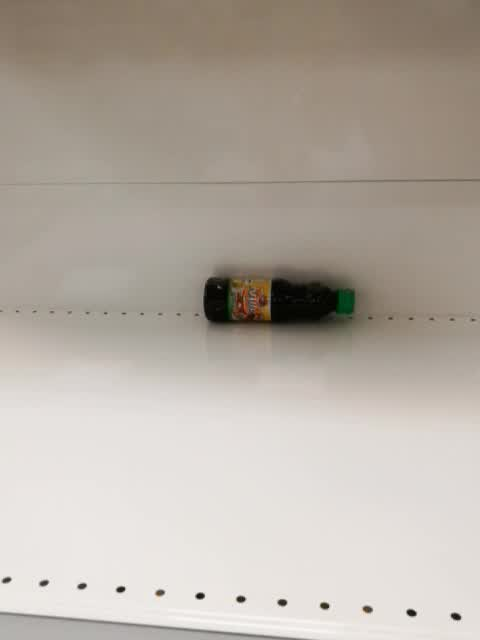cookingoil: (201, 273, 358, 327)
